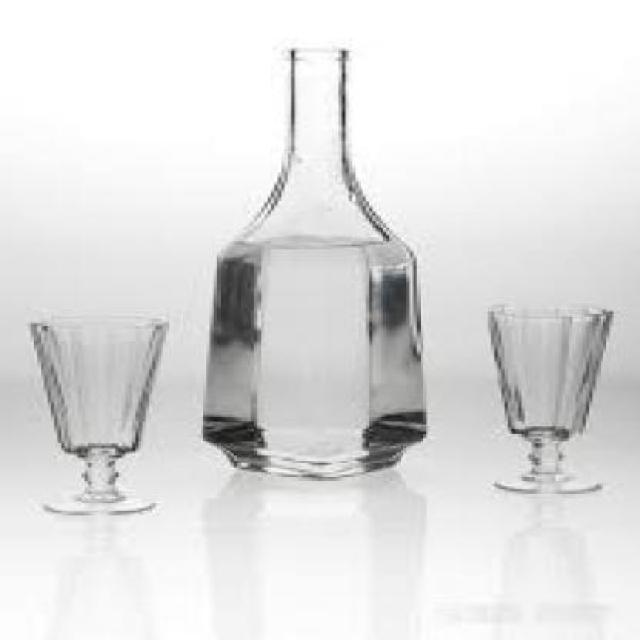kaca: (200, 46, 423, 477), (25, 314, 163, 511), (488, 301, 609, 494)
